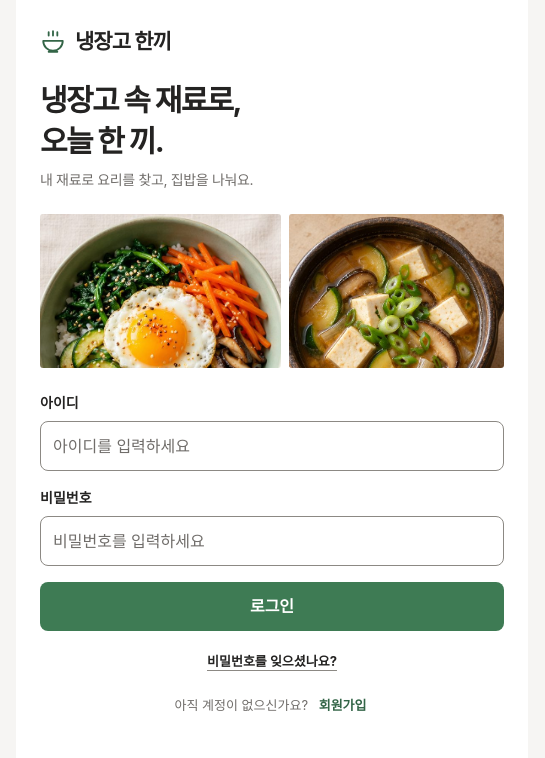
로그인 화면 › 짧은 비밀번호는 서버에 보내기 전에 막는다
Type "jisu" into the field labelled "아이디" at (272, 446), box [40,421,504,471]
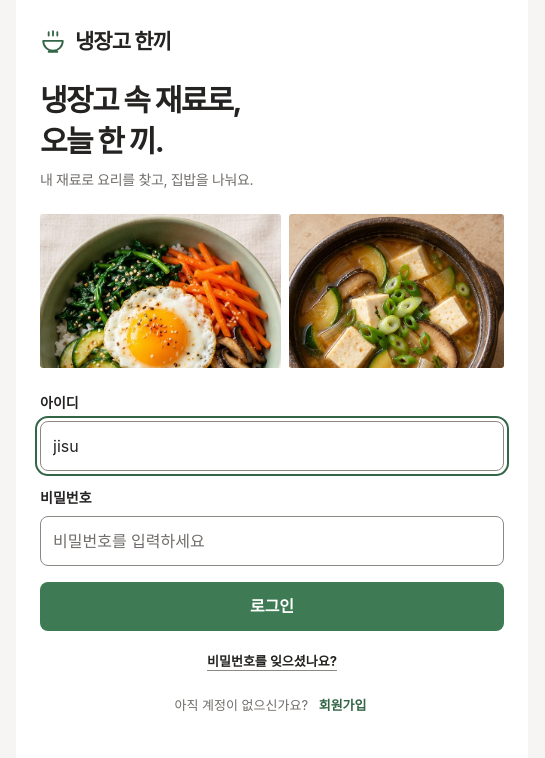
Type "short" into the password field labelled "비밀번호" at (272, 541), box [40,516,504,566]
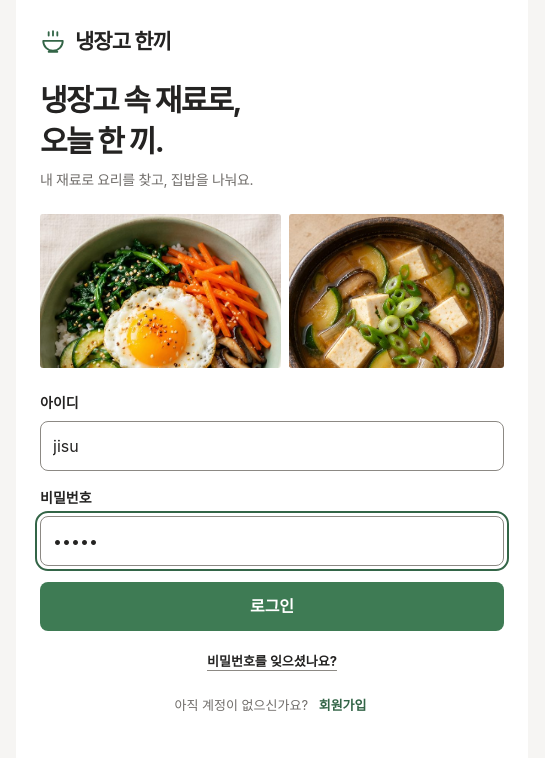
Click the button "로그인" at (272, 606), box [40,582,504,631]
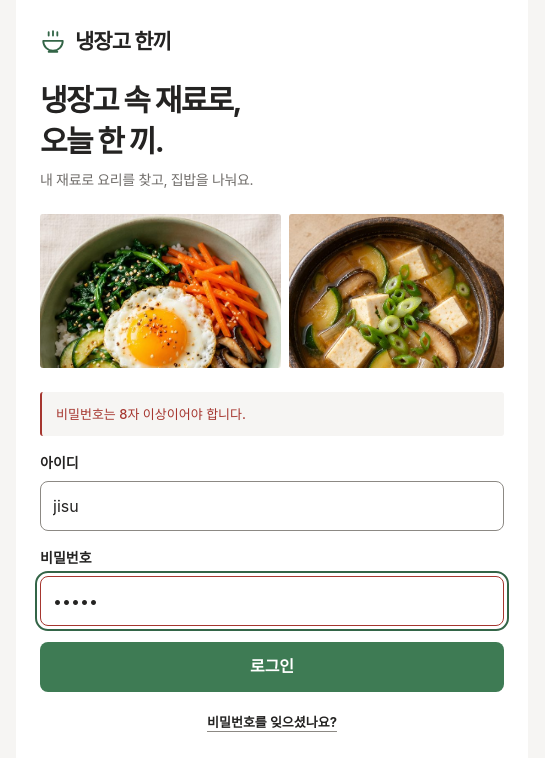
Now the message shows "8자 이상", box [56,406,246,422]
